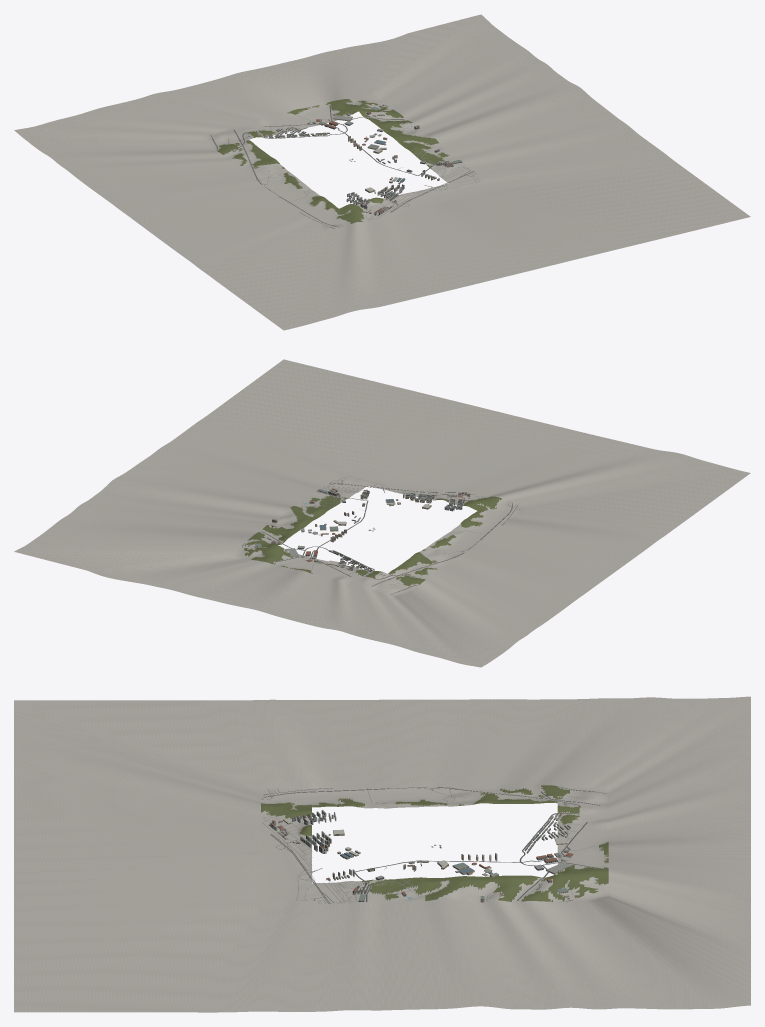
3 renders of one model, top to bottom at view 1: azimuth 30°, elevation 25°; view 2: azimuth 150°, elevation 25°; view 3: azimuth 270°, elevation 25°, orthographic. The views are drawn at different scales.
Visible parts, largest first — view 1: ctx-ground, ctx-buildings, ctx-roads, ctx-streets; view 2: ctx-ground, ctx-buildings, ctx-roads; view 3: ctx-ground, ctx-buildings, ctx-roads, ctx-streets.
Boxes of the visible parts, left/top/right/bottom form: ctx-ground: left=14, top=14, right=750, bottom=330; ctx-buildings: left=246, top=105, right=462, bottom=215; ctx-roads: left=210, top=104, right=473, bottom=228; ctx-streets: left=247, top=104, right=479, bottom=229; ctx-ground: left=14, top=359, right=750, bottom=667; ctx-buildings: left=244, top=488, right=470, bottom=575; ctx-roads: left=242, top=480, right=517, bottom=594; ctx-ground: left=14, top=696, right=750, bottom=1012; ctx-buildings: left=268, top=802, right=573, bottom=902; ctx-roads: left=261, top=786, right=606, bottom=903; ctx-streets: left=262, top=788, right=595, bottom=903.
Size of the model in its own units: 7600 by 110 by 7600.
19 materials, 15 textured.
